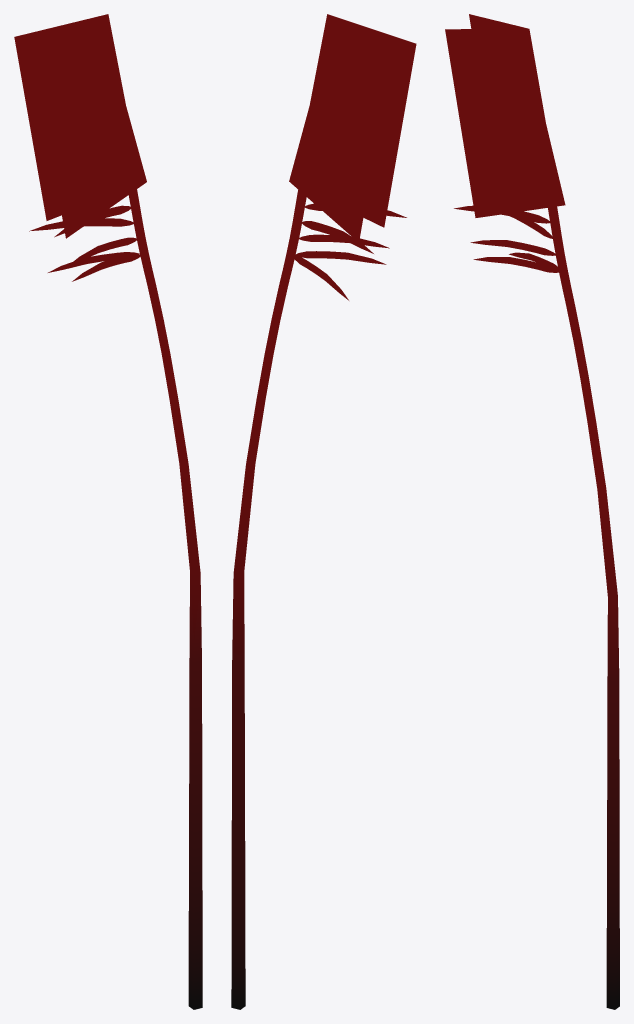
The model's file is common-reed.fbx.
3 renders of one model, left to right at view 1: azimuth 30°, elevation 25°; view 2: azimuth 150°, elevation 25°; view 3: azimuth 330°, elevation 25°, orthographic. The views are drawn at different scales.
Parts seen in each view (by area): view 1: Reed; view 2: Reed; view 3: Reed.
Part boxes in pixels (left/top/right/bottom): Reed: left=14, top=14, right=202, bottom=1009; Reed: left=231, top=14, right=416, bottom=1009; Reed: left=445, top=14, right=619, bottom=1009.
Size of the model in its own units: 19.74 by 110 by 6.38.
